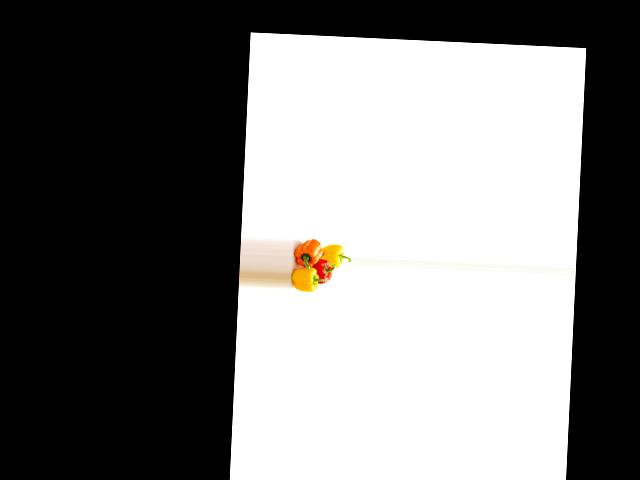bell_pepper: (290, 259, 324, 293)
